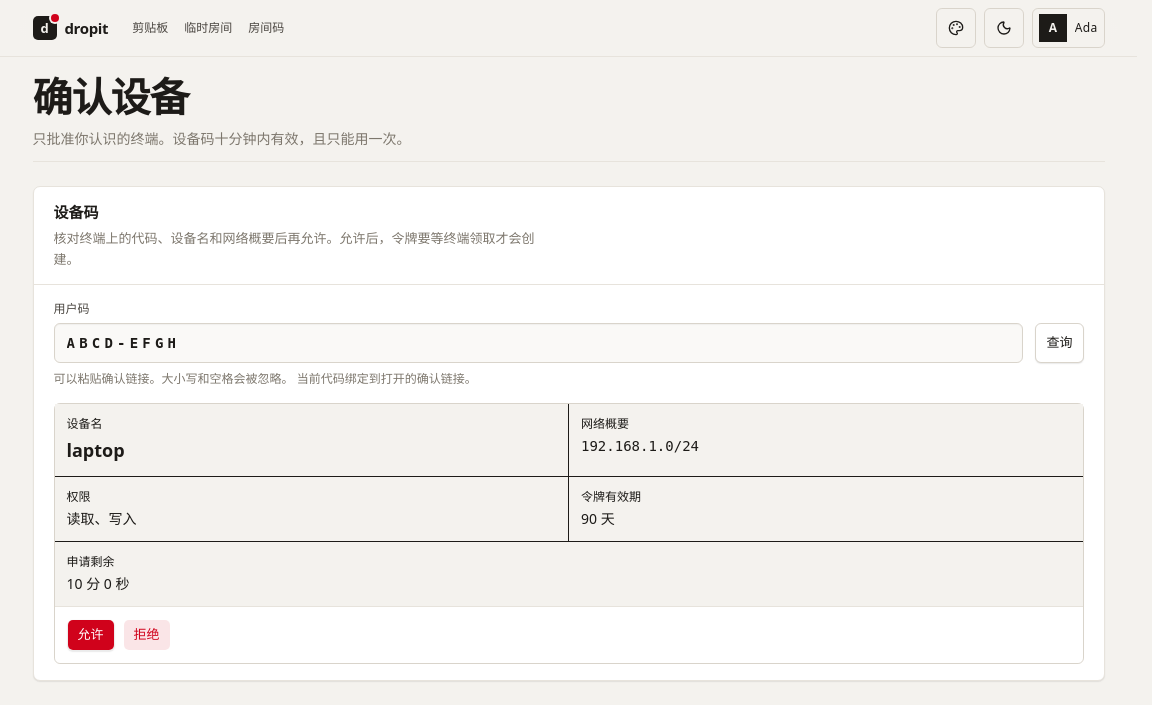
Test case: settings and device confirmation › previews a device from the link and approves it
Expected: the text "laptop" is shown, [66,438,125,462]
Expected: the text "192.168.1.0/24" is shown, [581,438,699,454]
Click the button "允许".
click(90, 635)  # box [66,619,114,651]
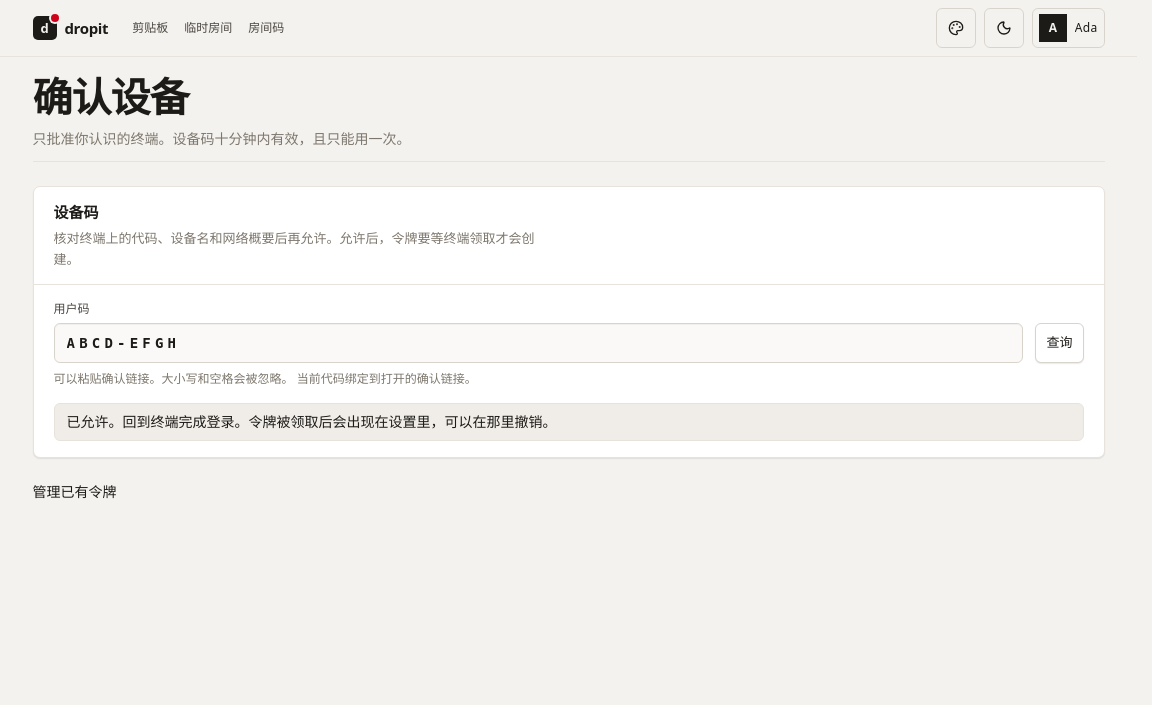
Expected: the text "已允许。回到终端完成登录。令牌被领取后会出现在设置里，可以在那里撤销。" is shown, [54,403,1084,441]
